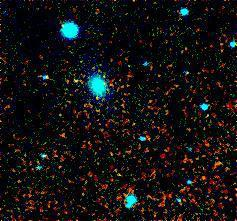star: (78, 82, 108, 112)
